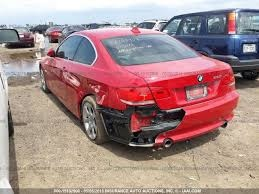Dent: (94, 100, 185, 148), (63, 72, 84, 91)
Scratch: (89, 82, 103, 93)
